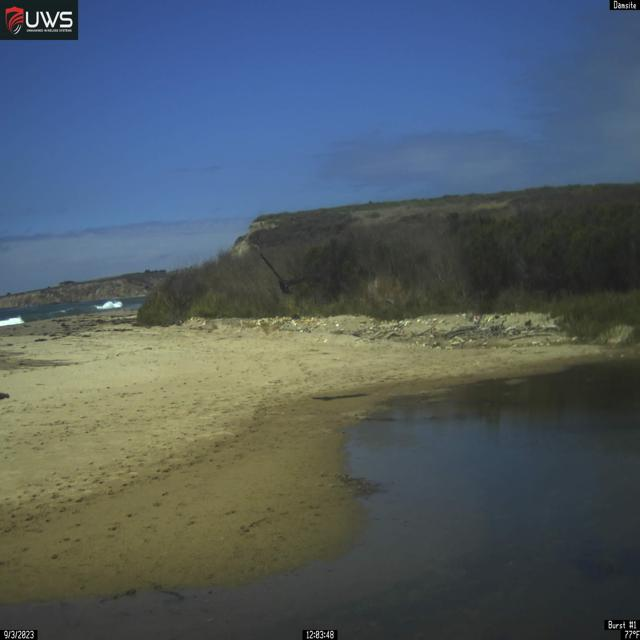bird: (259, 252, 321, 295)
